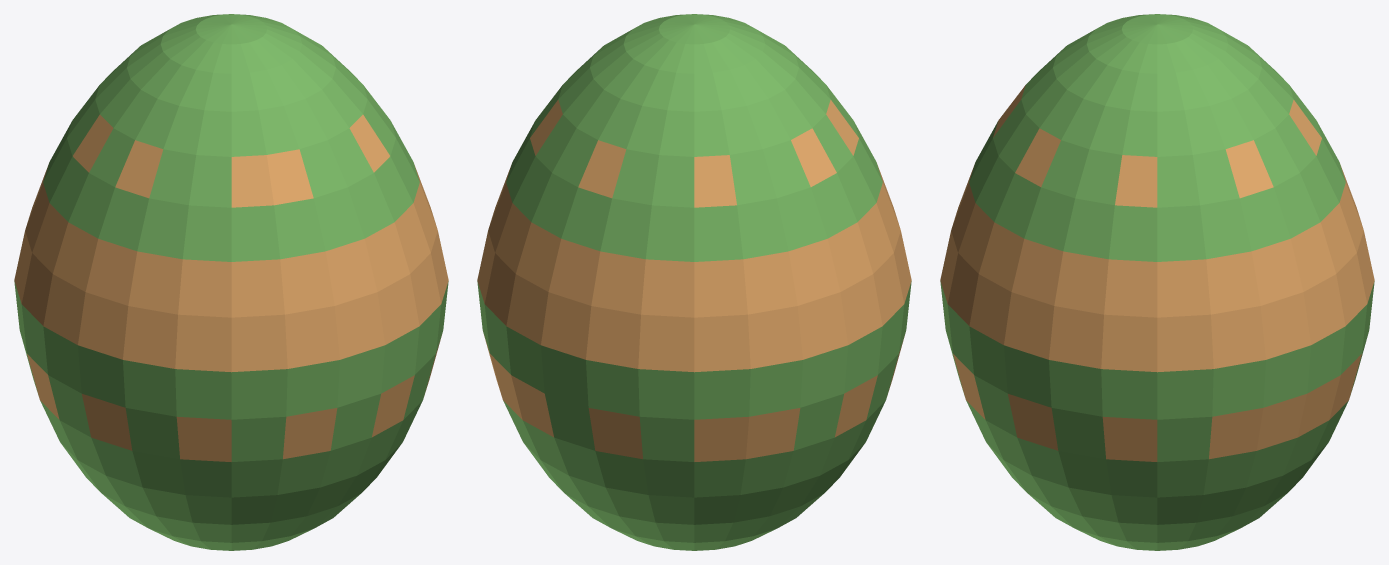
Rendered from Egg_cactus.fbx.
The picture shows the model from 3 angles, left to right: view 1: azimuth 30°, elevation 25°; view 2: azimuth 150°, elevation 25°; view 3: azimuth 270°, elevation 25°; orthographic projection.
Visible parts, largest first — view 1: Egg_cactus; view 2: Egg_cactus; view 3: Egg_cactus.
Part boxes in pixels (bbox=[...]): Egg_cactus: bbox=[14, 14, 448, 550]; Egg_cactus: bbox=[477, 14, 911, 550]; Egg_cactus: bbox=[940, 14, 1374, 550].
Size of the model in its own units: 28 by 36.4 by 28.
